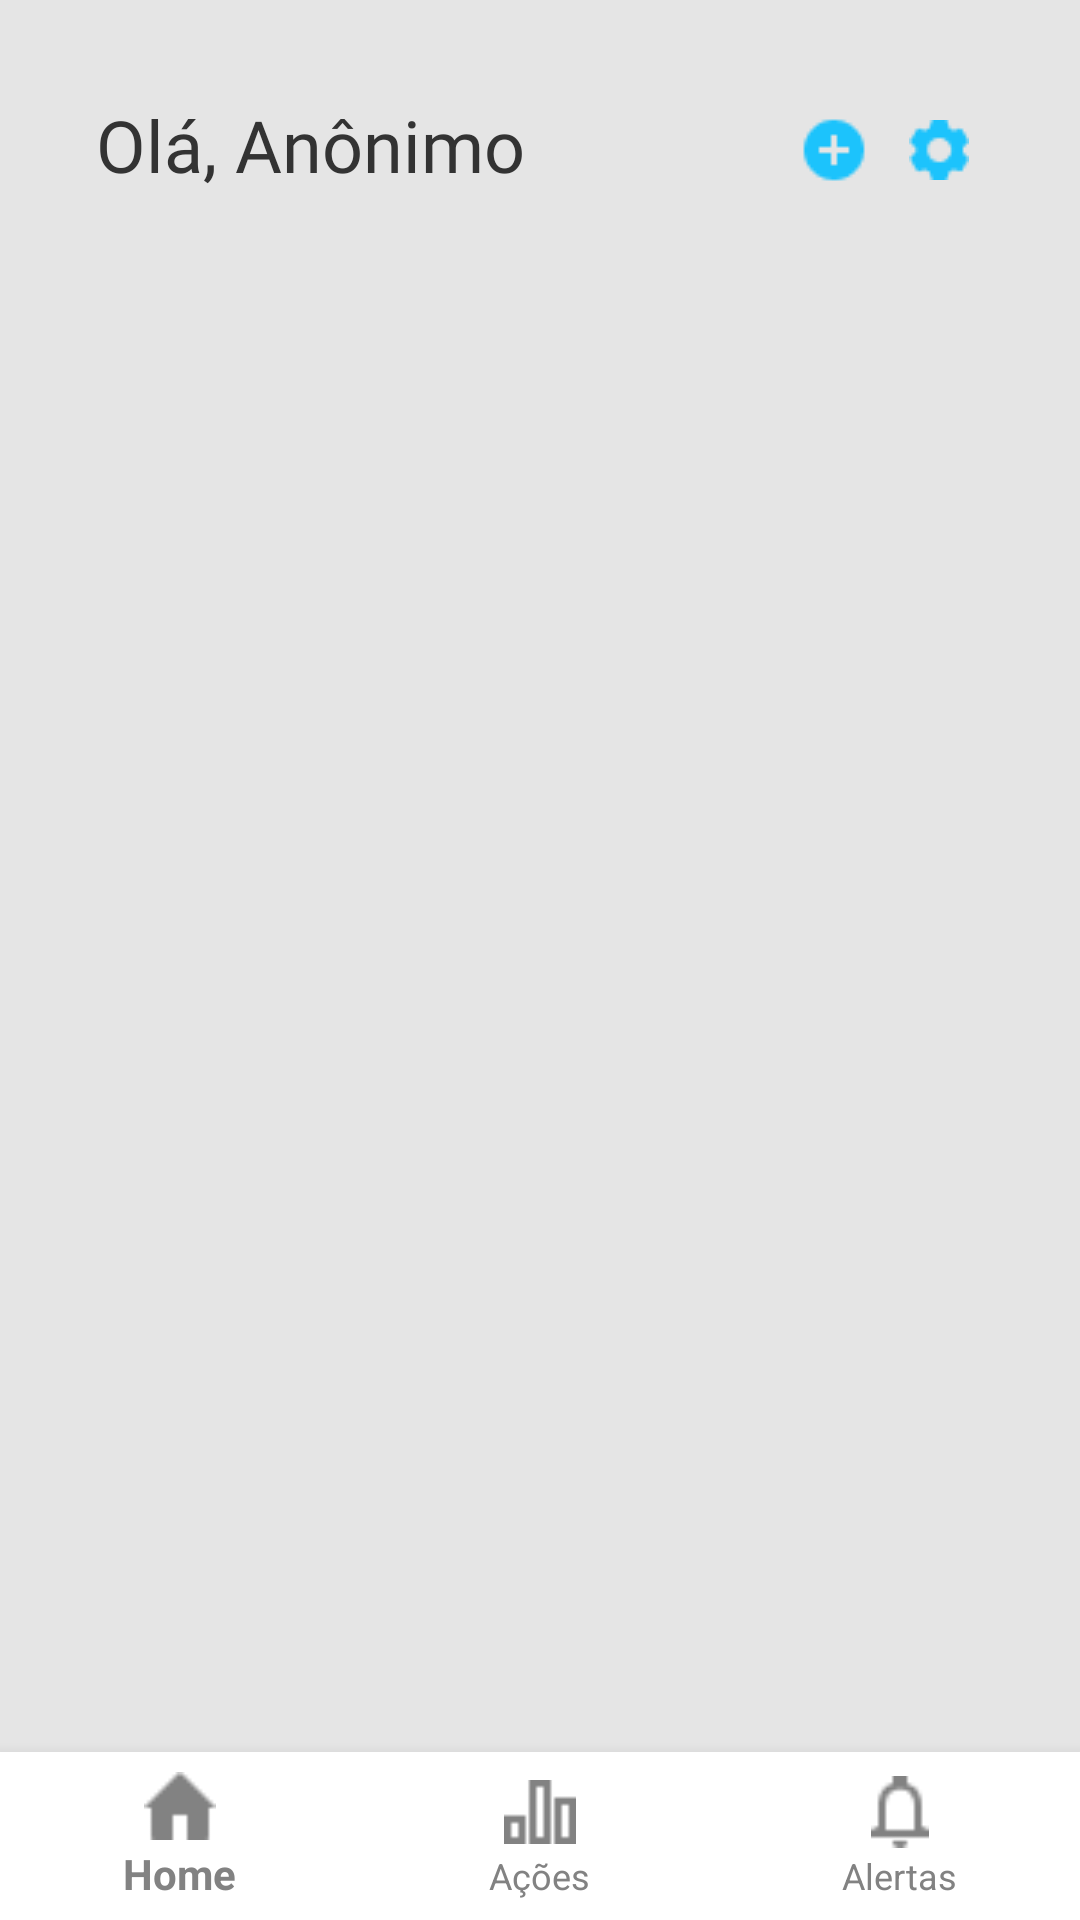

Where icons sit on this 1080×1920 app screen, as Rect(x1, y1, x2, y2):
acoes add: Rect(803, 119, 865, 181)
gear: Rect(909, 120, 969, 180)
